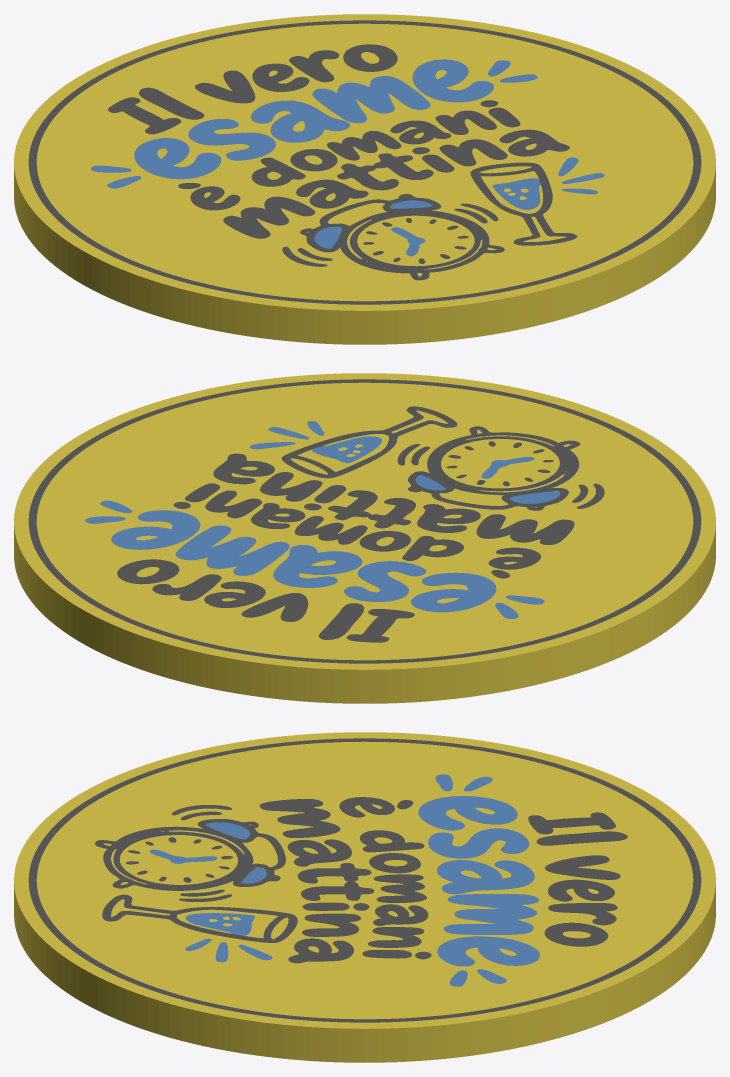
File: sottobicchiere-vero-esame-domani.glb
The picture shows the model from 3 angles, top to bottom: view 1: azimuth 30°, elevation 25°; view 2: azimuth 150°, elevation 25°; view 3: azimuth 270°, elevation 25°; orthographic projection.
Parts seen in each view (by area): view 1: coaster_base, coaster_ink, coaster_accent; view 2: coaster_base, coaster_ink, coaster_accent; view 3: coaster_base, coaster_ink, coaster_accent.
Part boxes in pixels (bbox=[...]): coaster_base: bbox=[14, 14, 715, 344]; coaster_ink: bbox=[28, 20, 701, 304]; coaster_accent: bbox=[91, 59, 604, 256]; coaster_base: bbox=[14, 373, 715, 703]; coaster_ink: bbox=[28, 379, 701, 663]; coaster_accent: bbox=[85, 421, 560, 618]; coaster_base: bbox=[14, 732, 715, 1062]; coaster_ink: bbox=[28, 738, 701, 1022]; coaster_accent: bbox=[149, 774, 539, 986].
Bounding box in the file's own units: 0.075 × 0.004 × 0.075.
